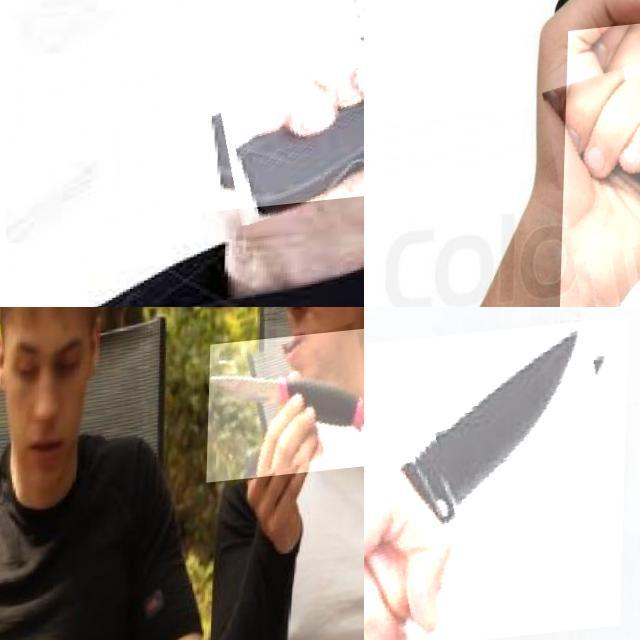-: (364, 328, 630, 640), (556, 4, 640, 307), (209, 337, 364, 489)
gun-knife-thesis - v11 Yolov5 augmented: (187, 0, 364, 219)
